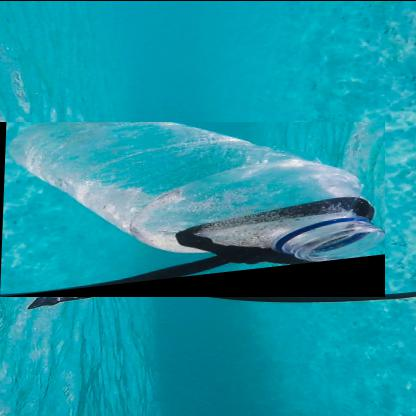bottle: (0, 120, 386, 296)
